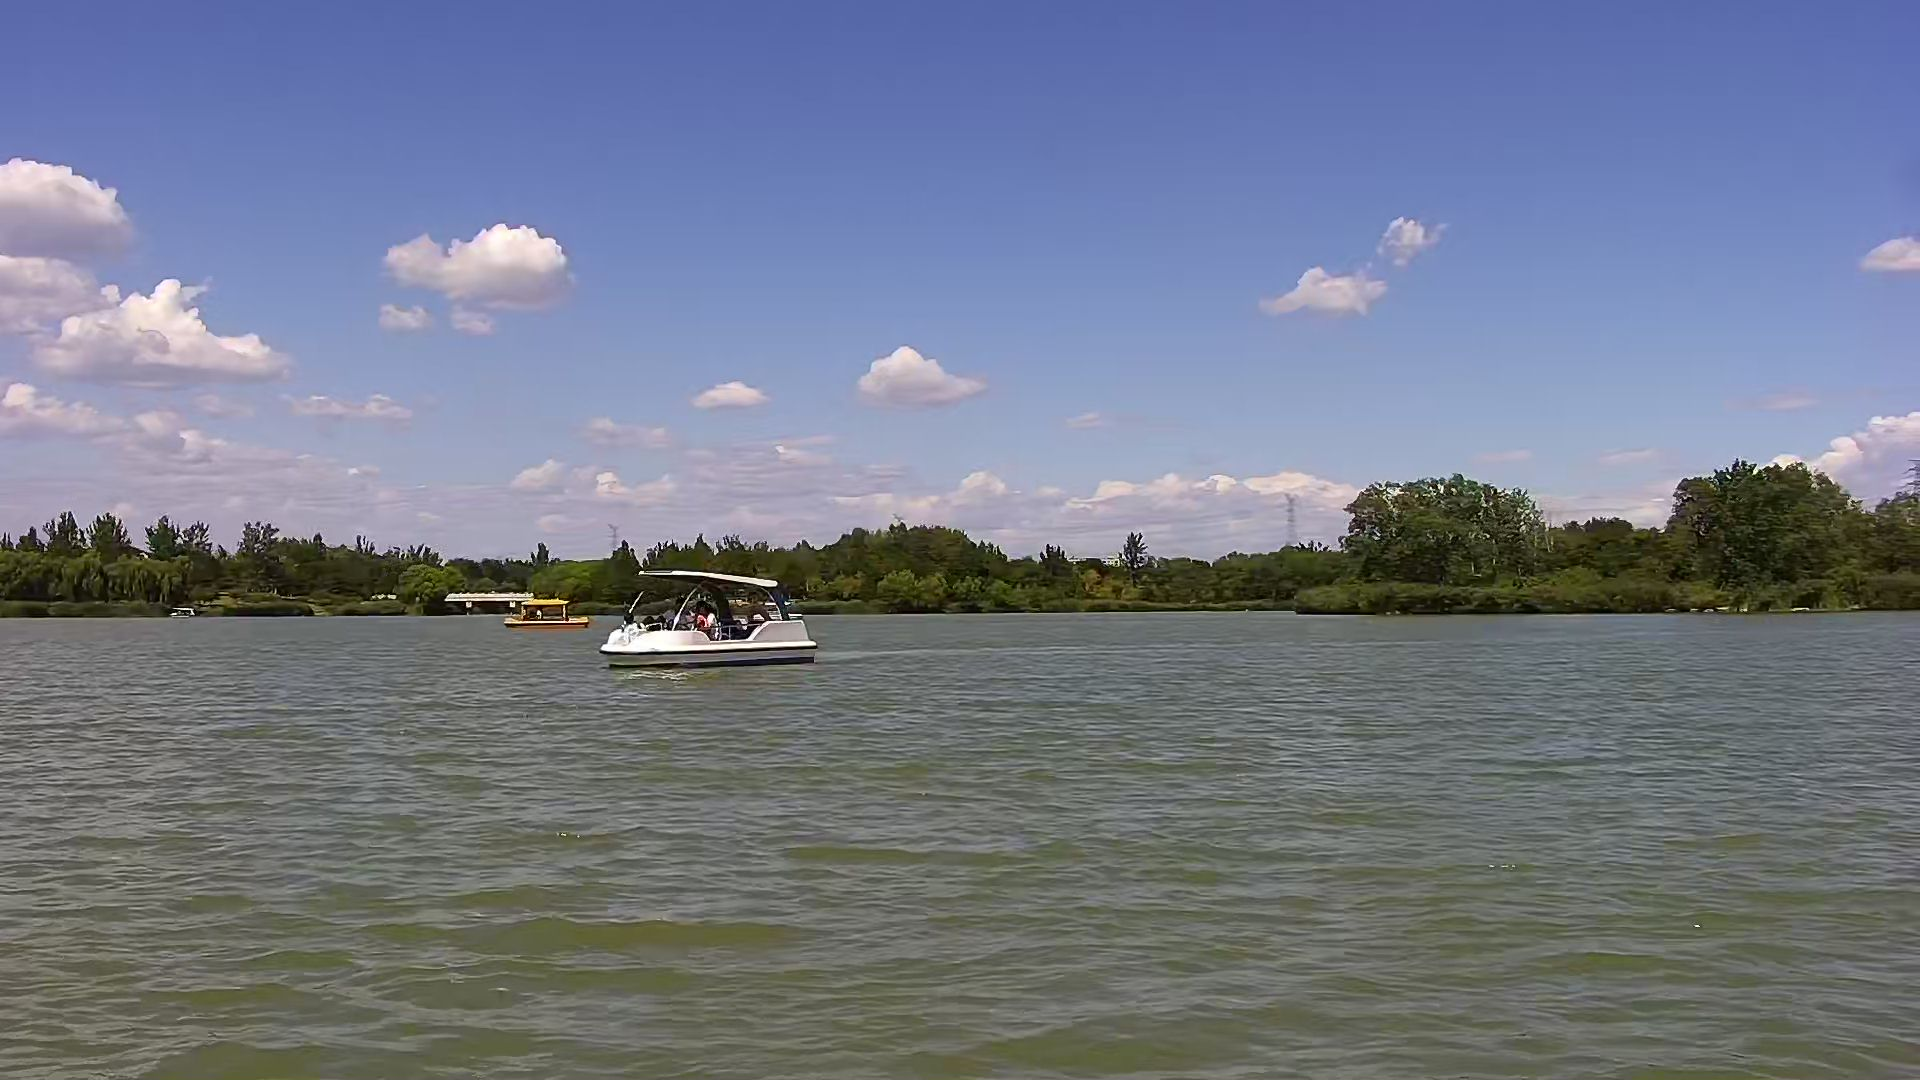boat: (600, 564, 818, 678), (512, 597, 589, 632)
bridge: (448, 587, 541, 613)
